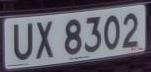0: (102, 12, 123, 54)
2: (120, 9, 141, 52)
3: (83, 12, 104, 56)
8: (61, 16, 85, 59)
U: (11, 20, 36, 62)
X: (33, 17, 56, 63)
